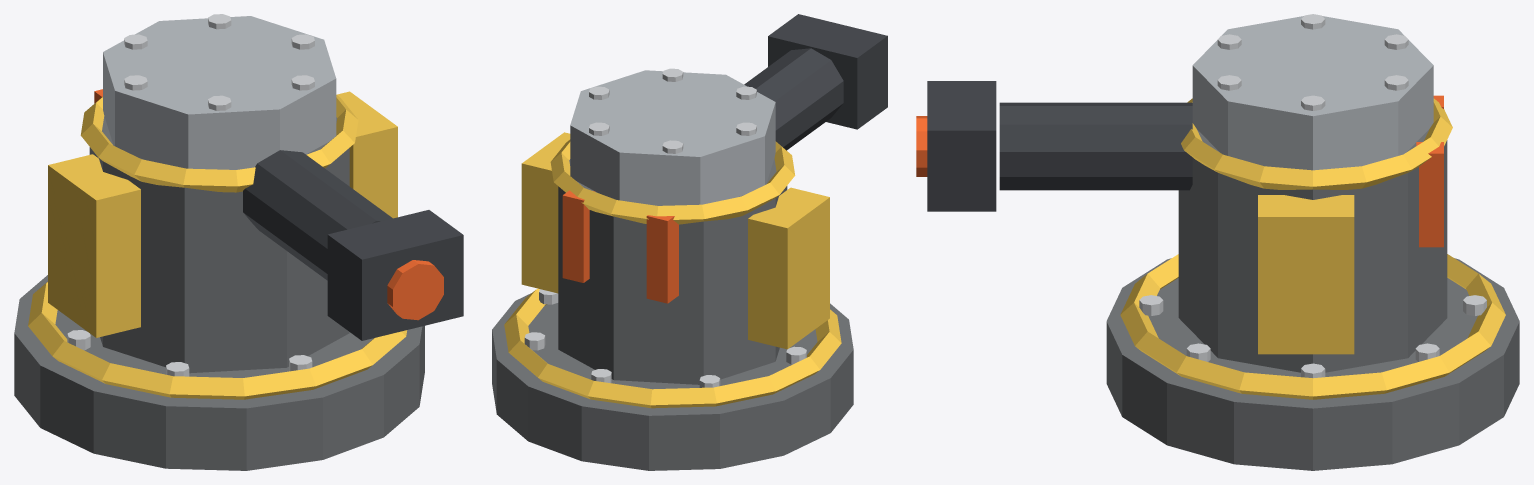
The model's file is TD_HeavyTower_T3.fbx.
3 renders of one model, left to right at view 1: azimuth 30°, elevation 25°; view 2: azimuth 150°, elevation 25°; view 3: azimuth 270°, elevation 25°, orthographic. The views are drawn at different scales.
Visible parts, largest first — view 1: TD_HeavyTower_T3_Base, TD_HeavyTower_T3_DarkSteelBody, TD_HeavyTower_T3_HeavyUpperBody, TD_HeavyTower_T3_GoldArmorPlate_Left, TD_HeavyTower_T3_MuzzleBlock, TD_HeavyTower_T3_MainBarrel, TD_HeavyTower_T3_BaseGoldArmorRing, TD_HeavyTower_T3_UpperGoldArmorRing, TD_HeavyTower_T3_GoldArmorPlate_Right, TD_HeavyTower_T3_FrontHeatCore; view 2: TD_HeavyTower_T3_Base, TD_HeavyTower_T3_DarkSteelBody, TD_HeavyTower_T3_HeavyUpperBody, TD_HeavyTower_T3_GoldArmorPlate_Left, TD_HeavyTower_T3_BaseGoldArmorRing, TD_HeavyTower_T3_MuzzleBlock, TD_HeavyTower_T3_MainBarrel, TD_HeavyTower_T3_GoldArmorPlate_Right, TD_HeavyTower_T3_UpperGoldArmorRing, TD_HeavyTower_T3_RearHeatVent_Left, TD_HeavyTower_T3_RearHeatVent_Right; view 3: TD_HeavyTower_T3_Base, TD_HeavyTower_T3_DarkSteelBody, TD_HeavyTower_T3_HeavyUpperBody, TD_HeavyTower_T3_MainBarrel, TD_HeavyTower_T3_GoldArmorPlate_Right, TD_HeavyTower_T3_BaseGoldArmorRing, TD_HeavyTower_T3_MuzzleBlock, TD_HeavyTower_T3_UpperGoldArmorRing, TD_HeavyTower_T3_RearHeatVent_Right, TD_HeavyTower_T3_FrontHeatCore.
Boxes of the visible parts, bbox=[...] form: TD_HeavyTower_T3_Base: bbox=[14, 275, 424, 470]; TD_HeavyTower_T3_DarkSteelBody: bbox=[89, 116, 349, 373]; TD_HeavyTower_T3_HeavyUpperBody: bbox=[103, 16, 336, 169]; TD_HeavyTower_T3_GoldArmorPlate_Left: bbox=[48, 154, 140, 337]; TD_HeavyTower_T3_MuzzleBlock: bbox=[327, 210, 463, 340]; TD_HeavyTower_T3_MainBarrel: bbox=[243, 150, 392, 280]; TD_HeavyTower_T3_BaseGoldArmorRing: bbox=[28, 282, 407, 399]; TD_HeavyTower_T3_UpperGoldArmorRing: bbox=[80, 95, 358, 192]; TD_HeavyTower_T3_GoldArmorPlate_Right: bbox=[337, 91, 397, 218]; TD_HeavyTower_T3_FrontHeatCore: bbox=[387, 260, 443, 320]; TD_HeavyTower_T3_Base: bbox=[492, 293, 853, 470]; TD_HeavyTower_T3_DarkSteelBody: bbox=[558, 158, 787, 384]; TD_HeavyTower_T3_HeavyUpperBody: bbox=[570, 70, 775, 205]; TD_HeavyTower_T3_GoldArmorPlate_Left: bbox=[748, 187, 829, 349]; TD_HeavyTower_T3_BaseGoldArmorRing: bbox=[504, 288, 841, 408]; TD_HeavyTower_T3_MuzzleBlock: bbox=[768, 14, 887, 129]; TD_HeavyTower_T3_MainBarrel: bbox=[744, 48, 843, 150]; TD_HeavyTower_T3_GoldArmorPlate_Right: bbox=[521, 132, 570, 293]; TD_HeavyTower_T3_UpperGoldArmorRing: bbox=[550, 139, 795, 224]; TD_HeavyTower_T3_RearHeatVent_Left: bbox=[646, 215, 678, 303]; TD_HeavyTower_T3_RearHeatVent_Right: bbox=[562, 190, 595, 282]; TD_HeavyTower_T3_Base: bbox=[1106, 258, 1519, 470]; TD_HeavyTower_T3_DarkSteelBody: bbox=[1178, 129, 1447, 372]; TD_HeavyTower_T3_HeavyUpperBody: bbox=[1192, 16, 1433, 170]; TD_HeavyTower_T3_MainBarrel: bbox=[999, 102, 1192, 190]; TD_HeavyTower_T3_GoldArmorPlate_Right: bbox=[1258, 195, 1354, 354]; TD_HeavyTower_T3_BaseGoldArmorRing: bbox=[1120, 254, 1505, 399]; TD_HeavyTower_T3_MuzzleBlock: bbox=[927, 81, 996, 211]; TD_HeavyTower_T3_UpperGoldArmorRing: bbox=[1181, 98, 1452, 189]; TD_HeavyTower_T3_RearHeatVent_Right: bbox=[1416, 142, 1443, 247]; TD_HeavyTower_T3_FrontHeatCore: bbox=[916, 116, 927, 176].
Bounding box in the file's own units: 1.2 × 1.04 × 1.75.
